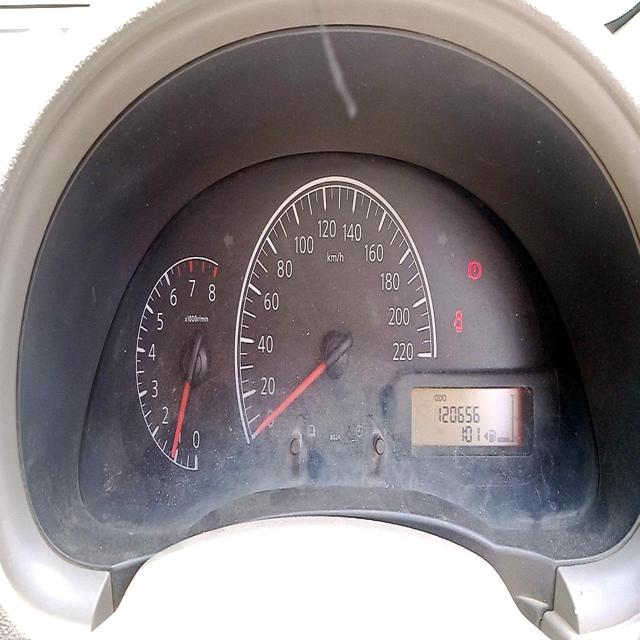odometer: (435, 402, 485, 431)
